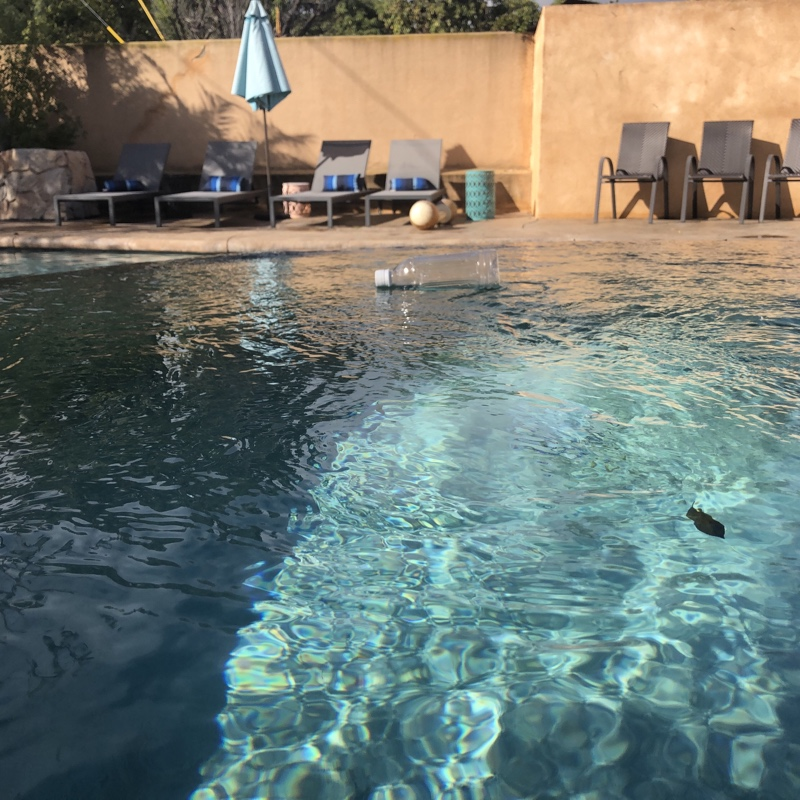Plastic Bottle: (372, 245, 501, 293)
